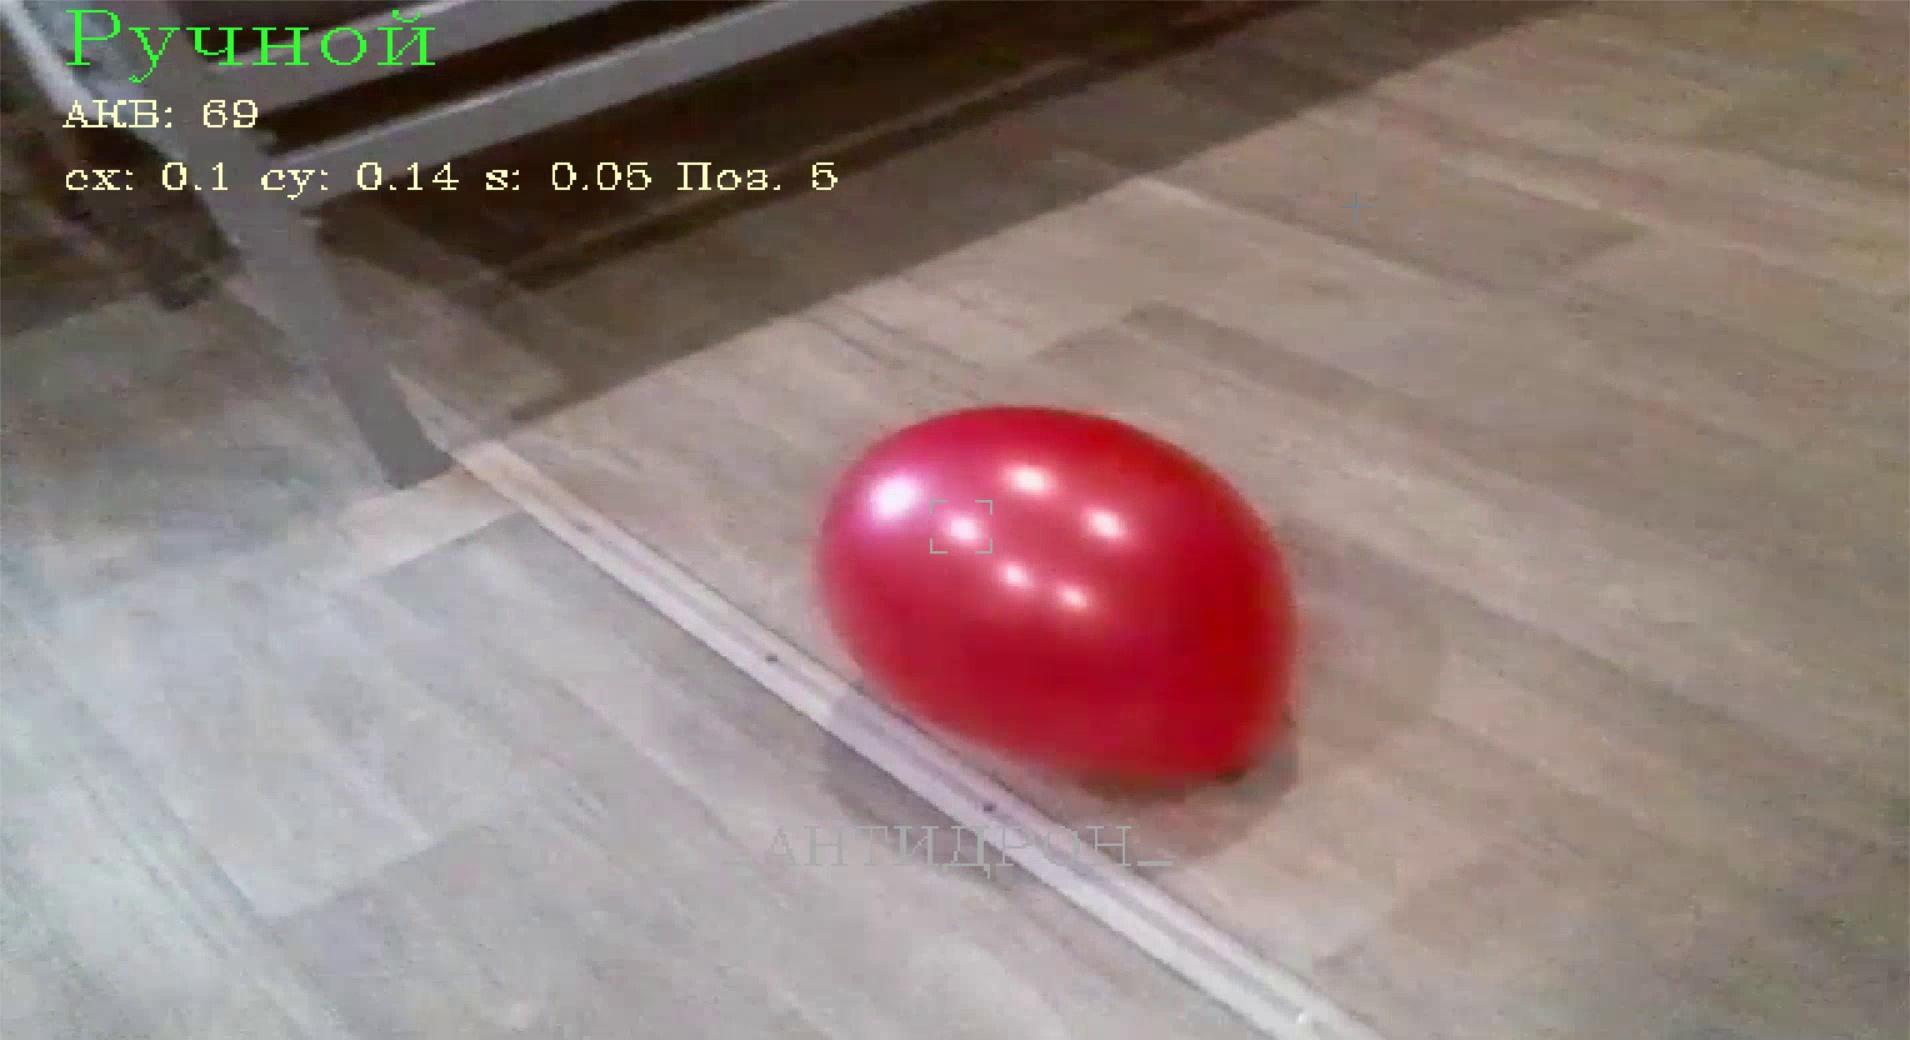red: (808, 402, 1304, 799)
